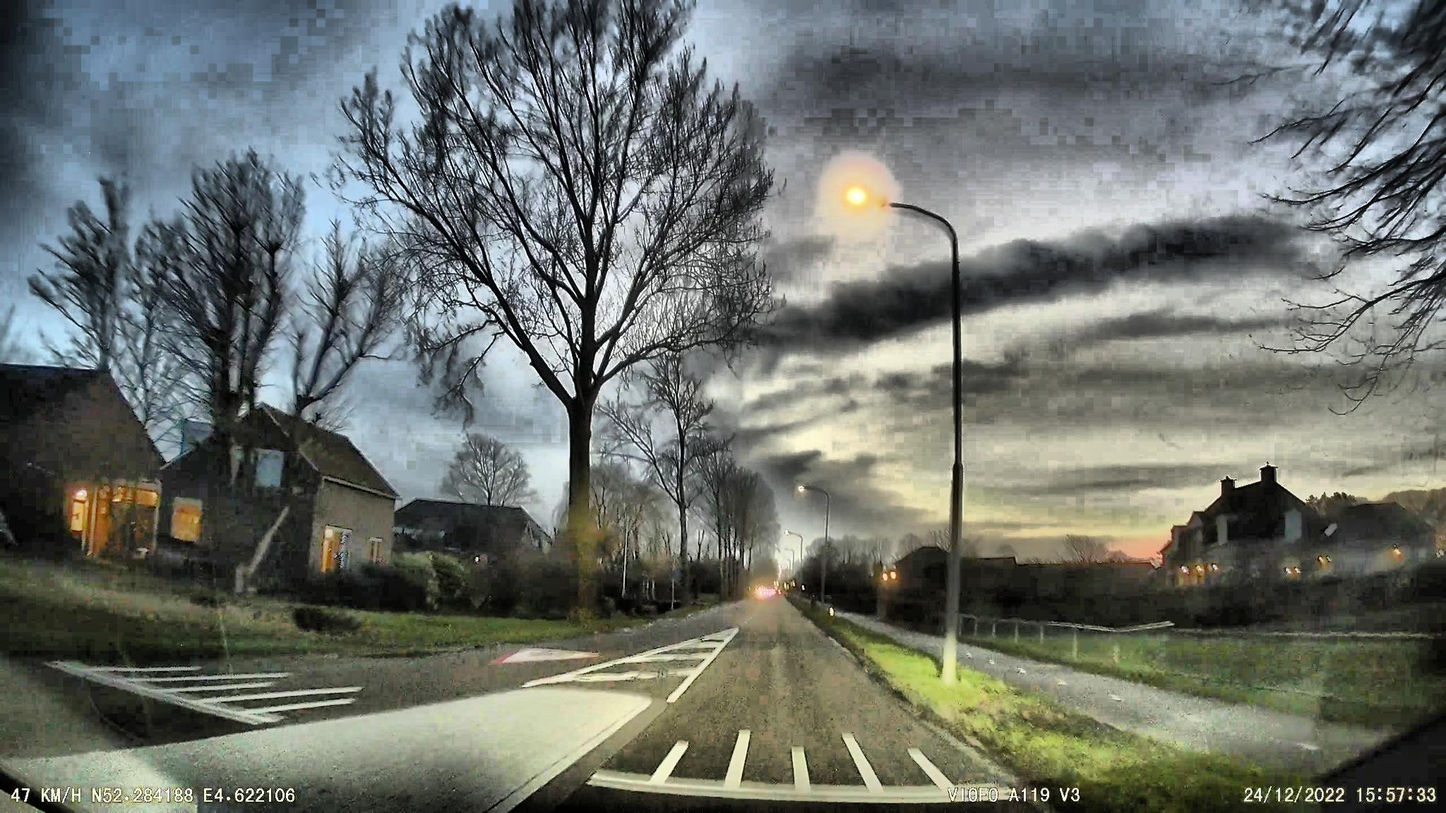Roads: (65, 596, 1063, 813)
